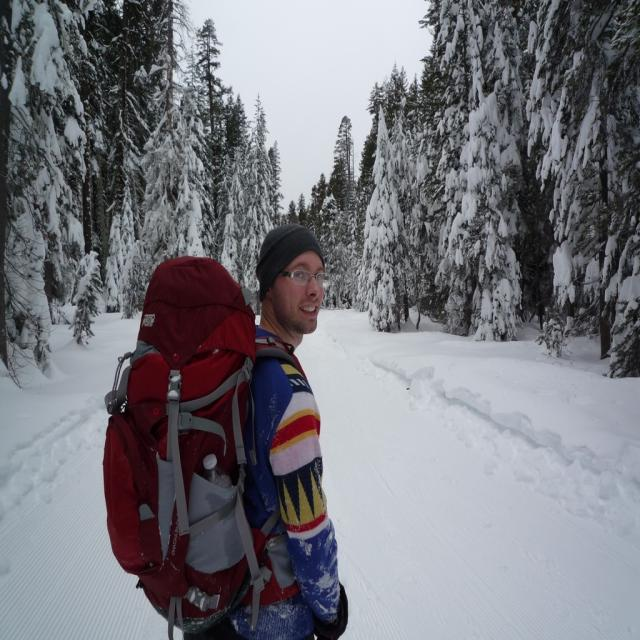backpack: (100, 251, 306, 639)
